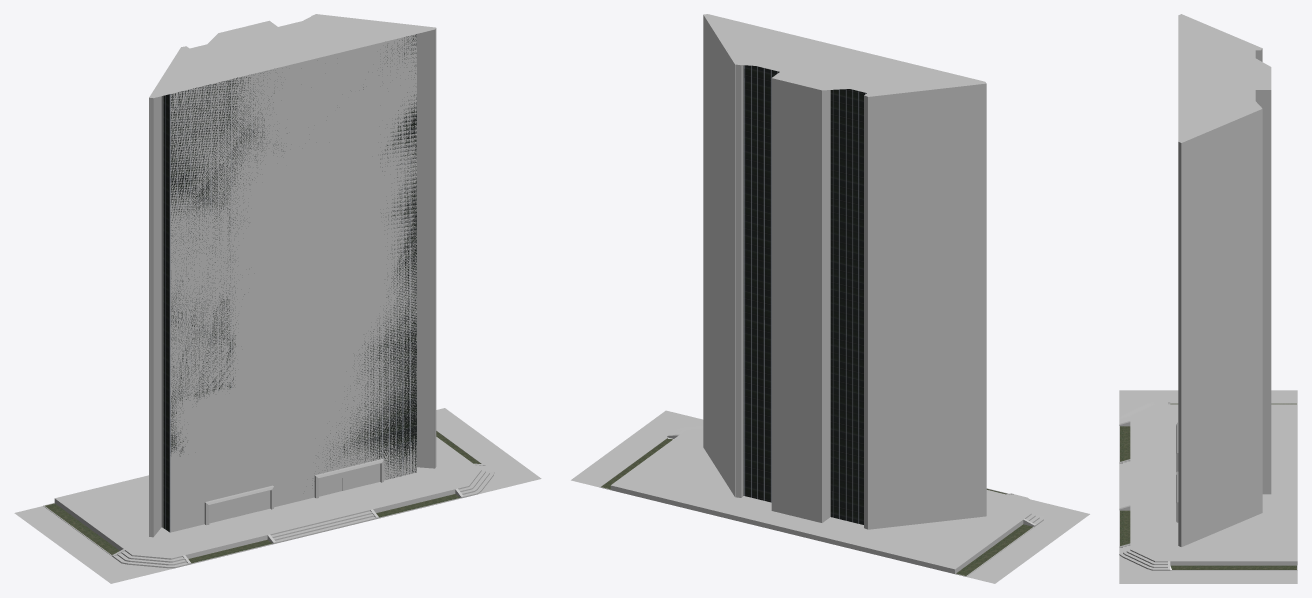
3 renders of one model, left to right at view 1: azimuth 30°, elevation 25°; view 2: azimuth 150°, elevation 25°; view 3: azimuth 270°, elevation 25°, orthographic. The views are drawn at different scales.
Parts seen in each view (by area): view 1: Building-BC-026, Building-BC-026_LOD, BC-026; view 2: Building-BC-026_LOD, Building-BC-026, BC-026; view 3: Building-BC-026_LOD, BC-026, Building-BC-026.
Part boxes in pixels (x1,y1,x2,y2): Building-BC-026: [149, 14, 436, 537]; Building-BC-026_LOD: [149, 15, 434, 536]; BC-026: [14, 408, 541, 583]; Building-BC-026_LOD: [703, 15, 986, 529]; Building-BC-026: [703, 14, 986, 529]; BC-026: [571, 410, 1089, 583]; Building-BC-026_LOD: [1181, 27, 1271, 546]; BC-026: [1119, 390, 1297, 583]; Building-BC-026: [1176, 14, 1271, 546].
Size of what is drawn, in the model's own units: 92.4 by 91 by 36.
